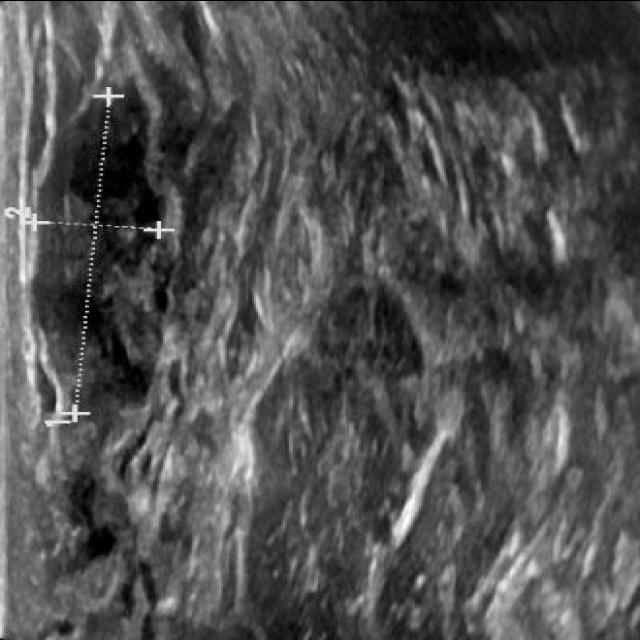Benign: (38, 104, 157, 380)
